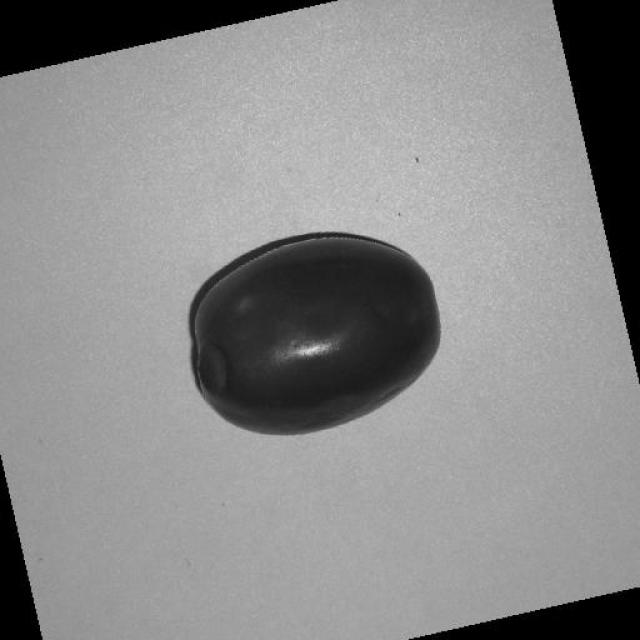Stale_tomato: (176, 226, 440, 421)
